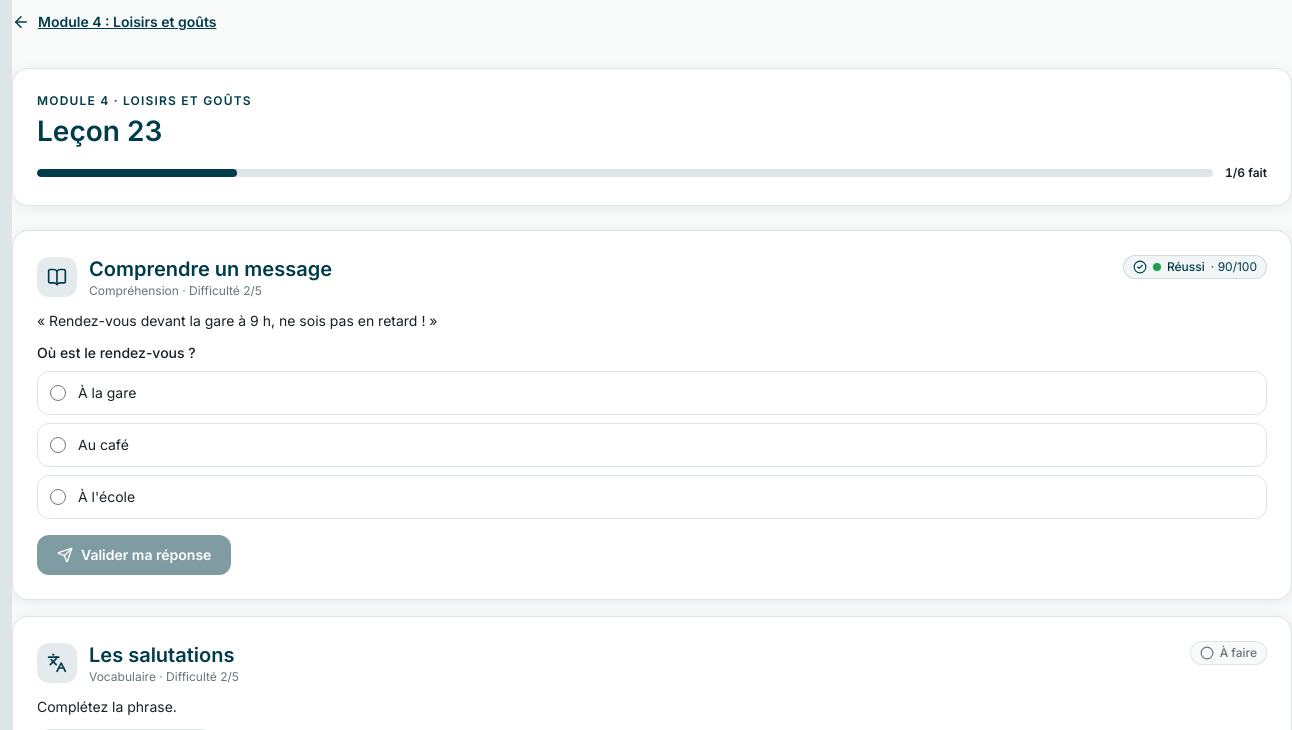
US43/US44 — QCM corrigé automatiquement › signale la réponse donnée, la bonne réponse et l'explication, puis permet de réessayer
The width and height of the screenshot is (1292, 730).
Click the radio button labelled "Au café" at (58, 445), box [50,437,66,453]
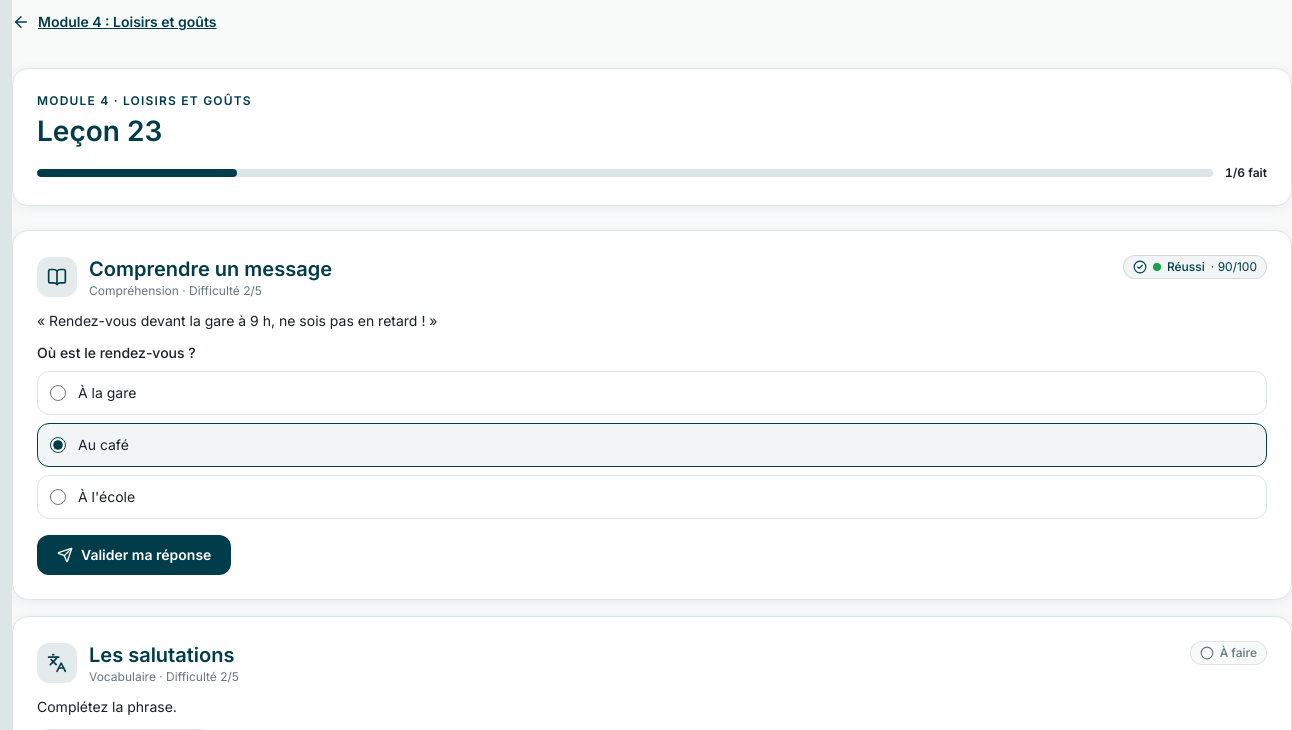
Click the button "Valider ma réponse" below "À l'école" at (134, 555), box [37,535,231,575]
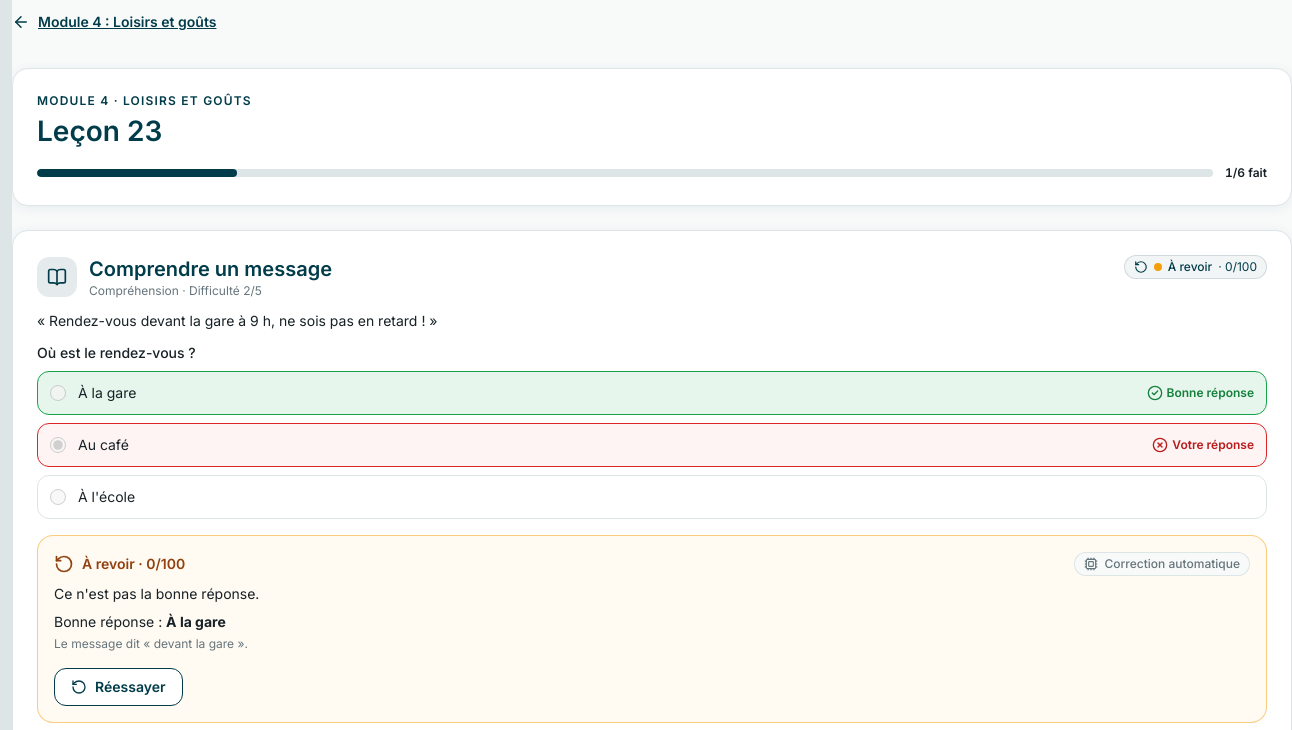
Now the element "Correction" shows "À revoir · 0/100", box [37,535,1267,723]
Now the element "Correction" shows "Correction automatique", box [1104,556,1240,571]
Now the element "Correction" shows "Bonne réponse : À la gare", box [37,535,1267,723]
Click the button "Réessayer" at (118, 687), box [54,668,182,706]
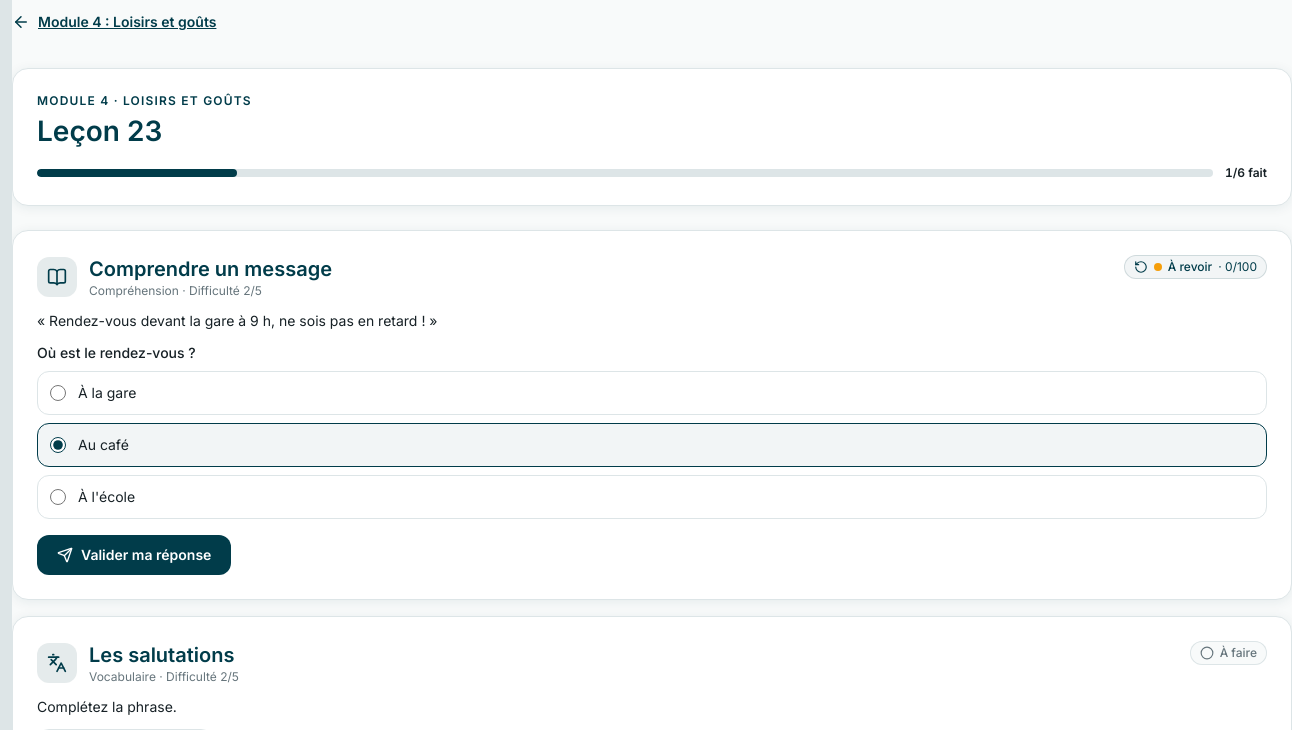
Now the element showing "Où est le rendez-vous ? À la gare Au café À l'école" is enabled, box [37,343,1267,519]
Click the radio button labelled "À la gare" at (58, 393), box [50,385,66,401]
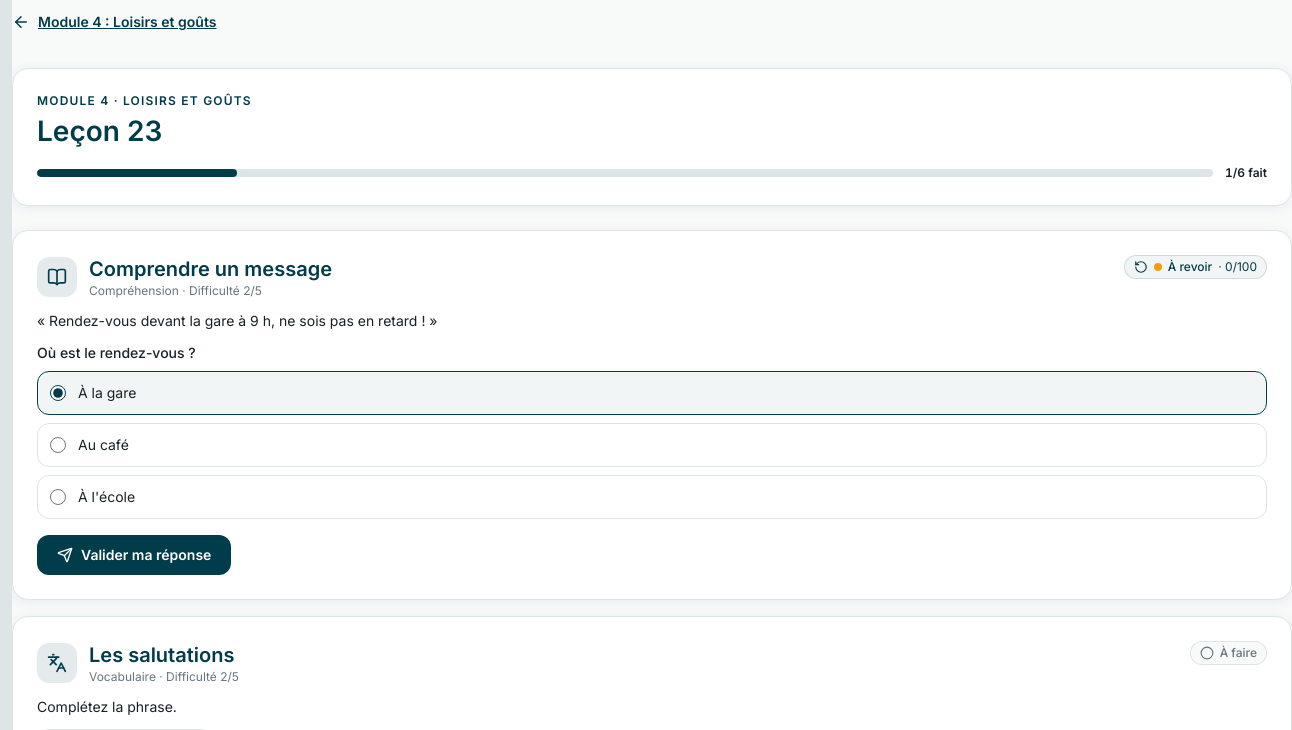
Click the button "Valider ma réponse" below "À l'école" at (134, 555), box [37,535,231,575]
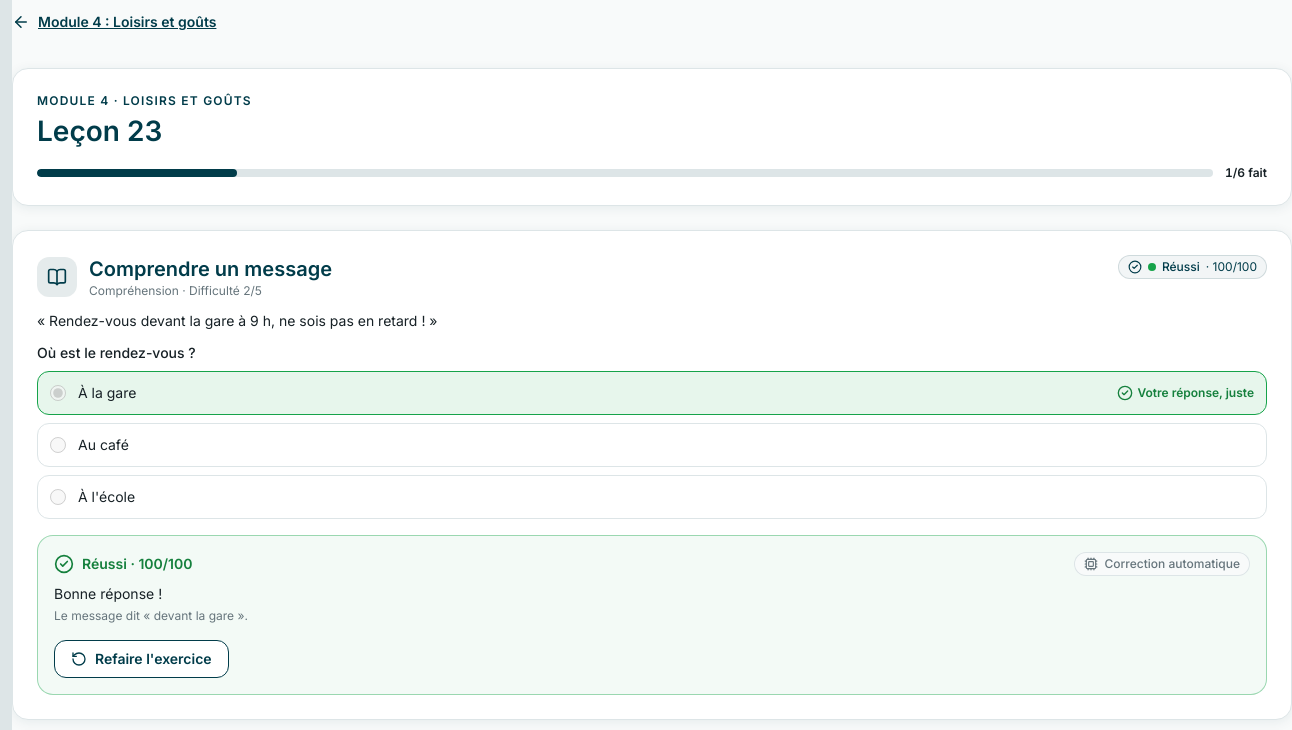
Now the text "Réussi · 100/100" is shown, box [54,554,192,574]
Now the label "À la gare Votre réponse, juste" is shown, box [37,371,1267,415]
